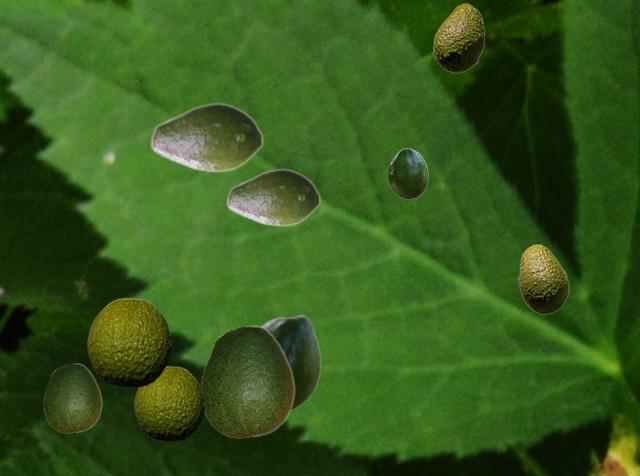avocado: (200, 325, 294, 437), (150, 102, 263, 172), (87, 298, 170, 386), (262, 314, 320, 412), (226, 168, 320, 226), (134, 366, 203, 440), (43, 363, 101, 432), (517, 244, 568, 313), (433, 3, 483, 72), (387, 148, 427, 198)
